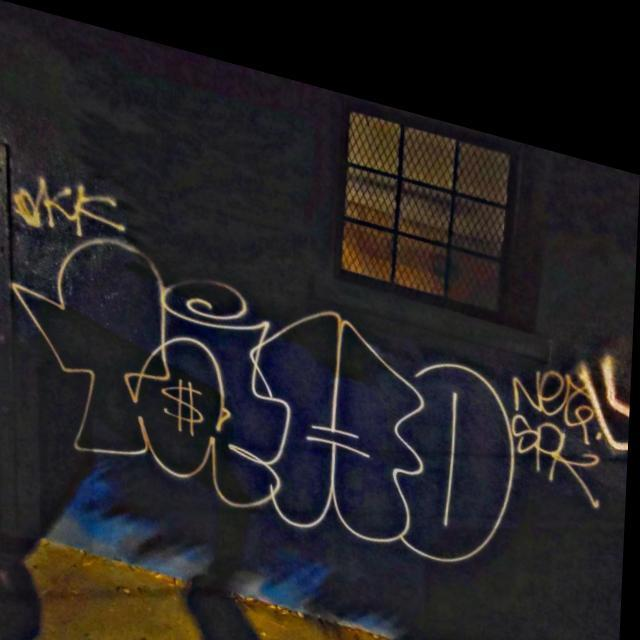-: (8, 165, 539, 580), (506, 295, 634, 484), (5, 157, 129, 249)
